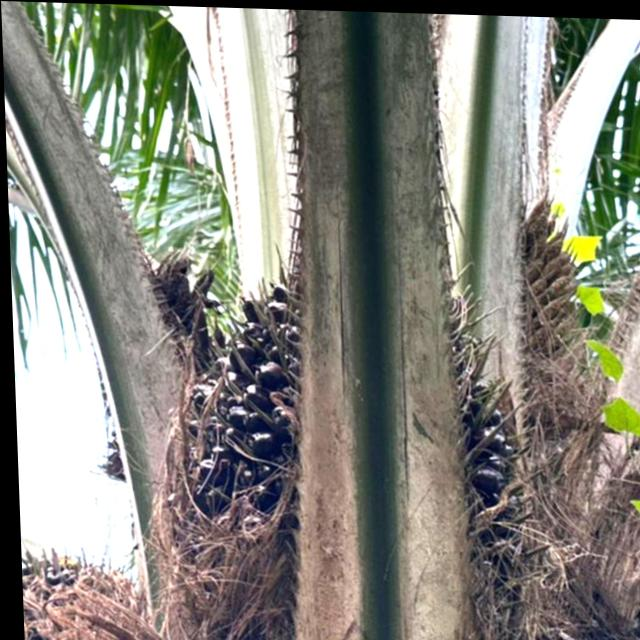ripe: (165, 219, 506, 558)
